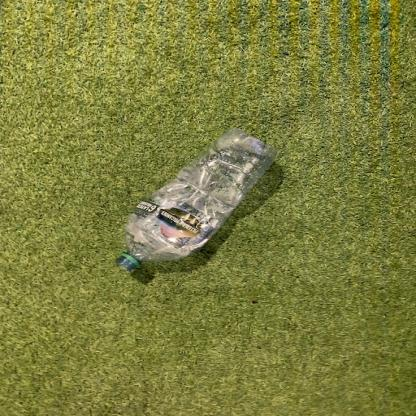trash: (114, 126, 280, 276)
